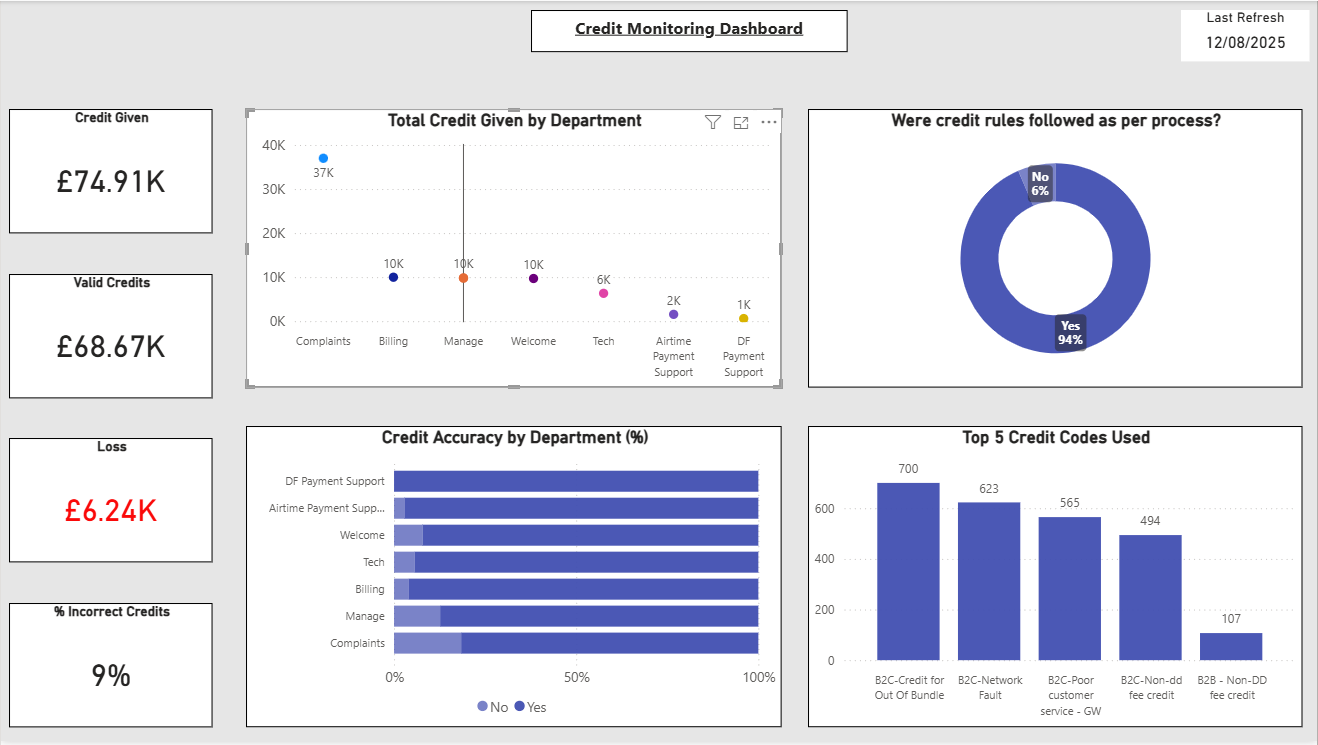

What the dashboard file says about the page in this screenshot:
{"tool":"powerbi","page":{"name":"Credit Summary","canvas":[1280,1300],"ordinal":0},"visuals":[{"type":"lineChart","title":"Total Credit Given by Department","fields":{"Series":["Credit Monitoring July 25 Cleaned.Operation"],"Y":["Sum(Credit Monitoring July 25 Cleaned.Credit_given)"],"Category":["Credit Monitoring July 25 Cleaned.Operation"]},"box":[18.6,572.9,647.1,292.9],"z":0},{"type":"card","fields":{"Values":["Credit Monitoring July 25 Cleaned.Incorrect Credits %"]},"box":[696.7,313.3,340,111.7],"z":1000},{"type":"hundredPercentStackedBarChart","title":"Credit Accuracy by Department (%)","fields":{"Category":["Credit Monitoring July 25 Cleaned.Operation"],"Y":["CountNonNull(Credit Monitoring July 25 Cleaned.Was the Value of the credit accurate?)"],"Series":["Credit Monitoring July 25 Cleaned.Was the Value of the credit accurate?"]},"box":[670,572.9,597.1,292.9],"z":2000},{"type":"card","fields":{"Values":["Credit Monitoring July 25 Cleaned.Total Credit Given"]},"box":[300,156.7,340,111.7],"z":3000},{"type":"card","fields":{"Values":["Credit Monitoring July 25 Cleaned.Total Credit Should Have Been Given"]},"box":[300,313.3,340,111.7],"z":4000},{"type":"card","fields":{"Values":["Credit Monitoring July 25 Cleaned.Difference"]},"box":[696.7,156.7,340,111.7],"z":5000},{"type":"lineChart","title":"Top 5 Credit Codes Used","fields":{"Category":["Credit Monitoring July 25 Cleaned.What Credit Code was used?"],"Y":["CountNonNull(Credit Monitoring July 25 Cleaned.What Credit Code was used?)"]},"box":[690,1000,555.7,275.7],"z":6000},{"type":"donutChart","title":"Were credit rules followed as per process?","fields":{"Category":["Credit Monitoring July 25 Cleaned.Were credit rules followed as per Support?"],"Y":["CountNonNull(Credit Monitoring July 25 Cleaned.Were credit rules followed as per Support?)"]},"box":[65.7,1000,554.3,275.7],"z":7000},{"type":"textbox","box":[515.6,8.9,307.8,41.1],"z":8000},{"type":"shape","box":[531.2,451.2,247.5,107.5],"z":9000},{"type":"textbox","box":[531.2,65,270,60],"z":10000},{"type":"shape","box":[68.3,128.3,1171.7,323.3],"z":11000},{"type":"shape","box":[531.2,892.5,247.5,107.5],"z":12000}]}

Visuals, with their boxes on the page's 1280x1300 design canvas (x1, y1, x2, y2). These are canvas units, not pixel positions in the 1318x745 screenshot, which may show the page scaled, cropped or inside an application window:
"Total Credit Given by Department" lineChart: <box>19,573,666,866</box>
card - Credit Monitoring July 25 Cleaned.Incorrect Credits %: <box>697,313,1037,425</box>
"Credit Accuracy by Department (%)" hundredPercentStackedBarChart: <box>670,573,1267,866</box>
card - Credit Monitoring July 25 Cleaned.Total Credit Given: <box>300,157,640,268</box>
card - Credit Monitoring July 25 Cleaned.Total Credit Should Have Been Given: <box>300,313,640,425</box>
card - Credit Monitoring July 25 Cleaned.Difference: <box>697,157,1037,268</box>
"Top 5 Credit Codes Used" lineChart: <box>690,1000,1246,1276</box>
"Were credit rules followed as per process?" donutChart: <box>66,1000,620,1276</box>
textbox: <box>516,9,823,50</box>
shape: <box>531,451,779,559</box>
textbox: <box>531,65,801,125</box>
shape: <box>68,128,1240,452</box>
shape: <box>531,892,779,1000</box>
